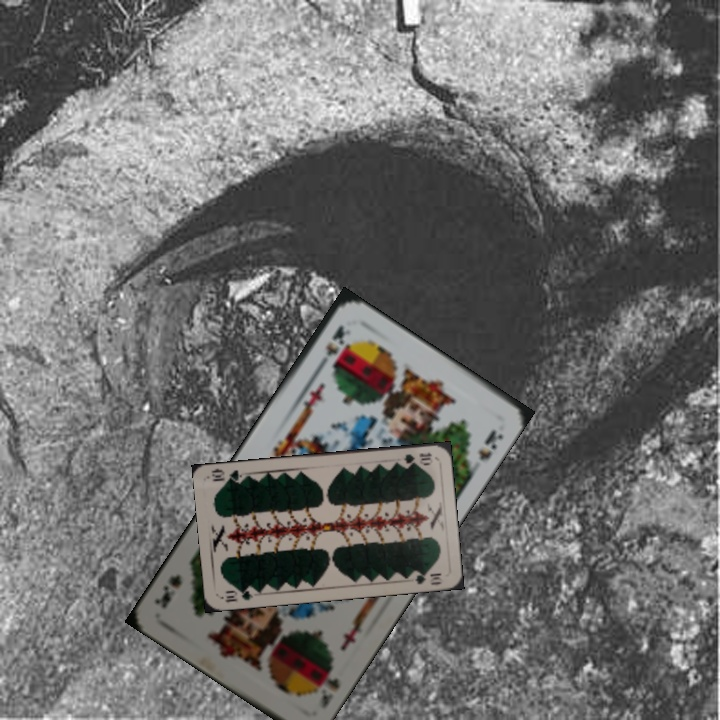G10: (221, 584, 259, 605), (400, 449, 435, 468)
SK: (313, 321, 348, 372), (308, 661, 343, 712)
